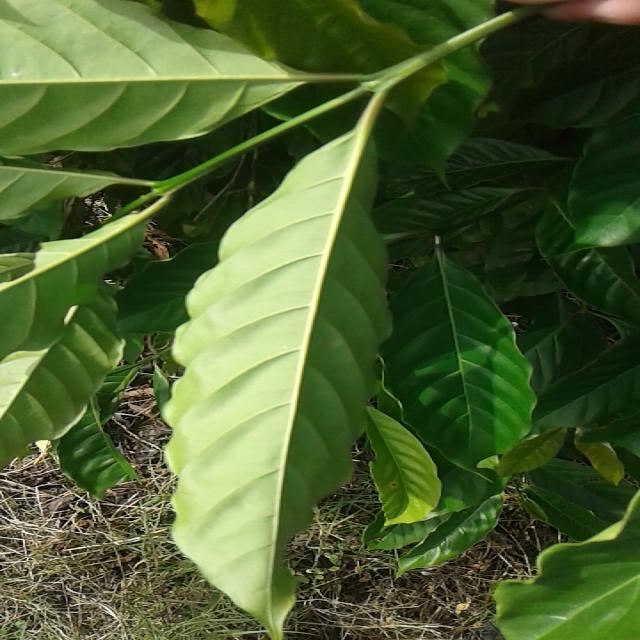Sanas: (163, 97, 393, 640)
